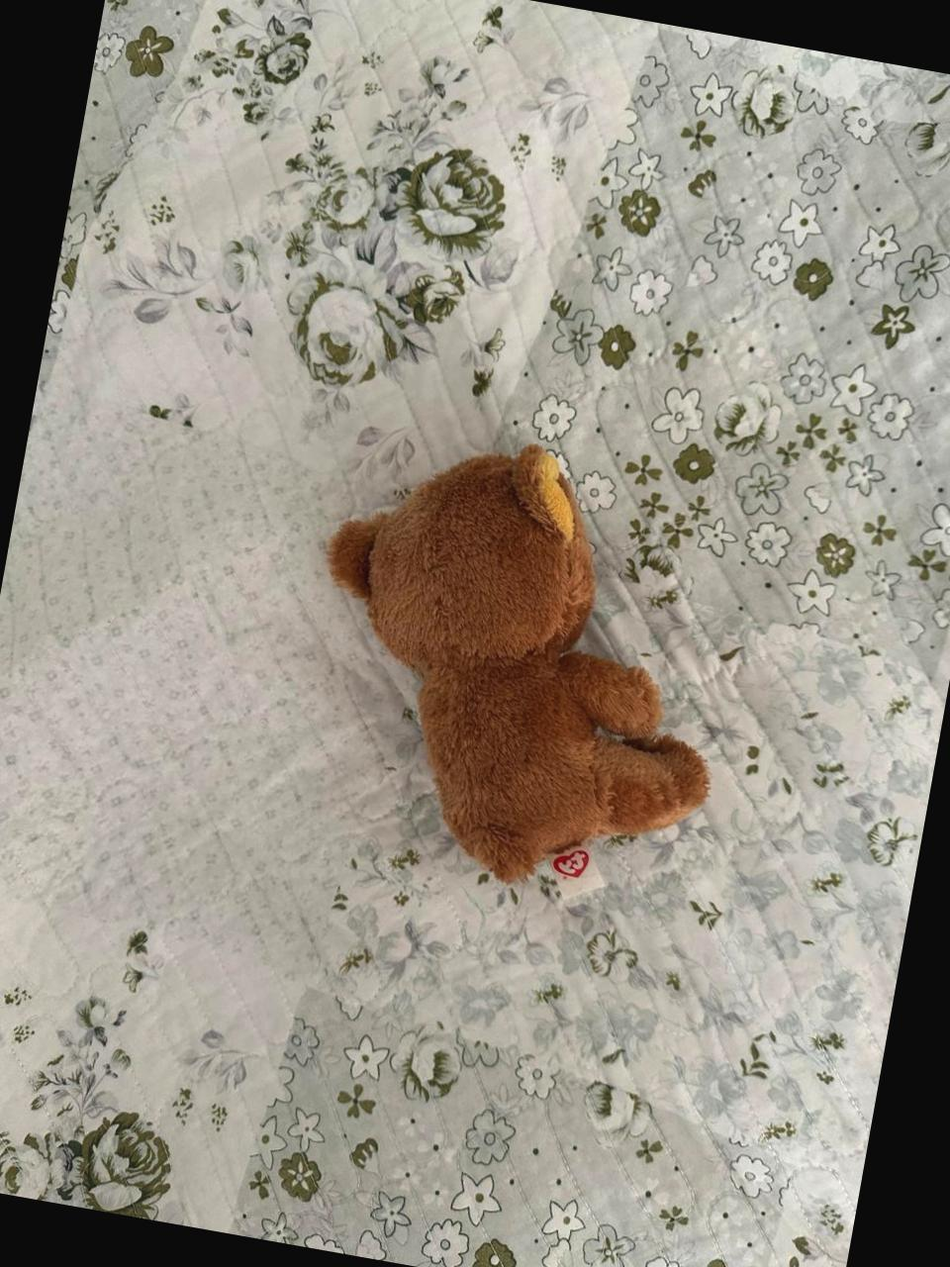peluche_sebastian: (269, 414, 762, 907)
